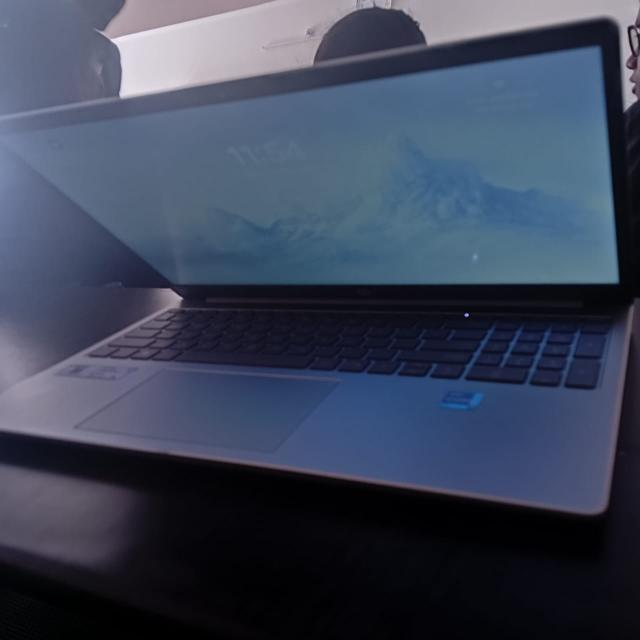laptop: (8, 27, 630, 553)
